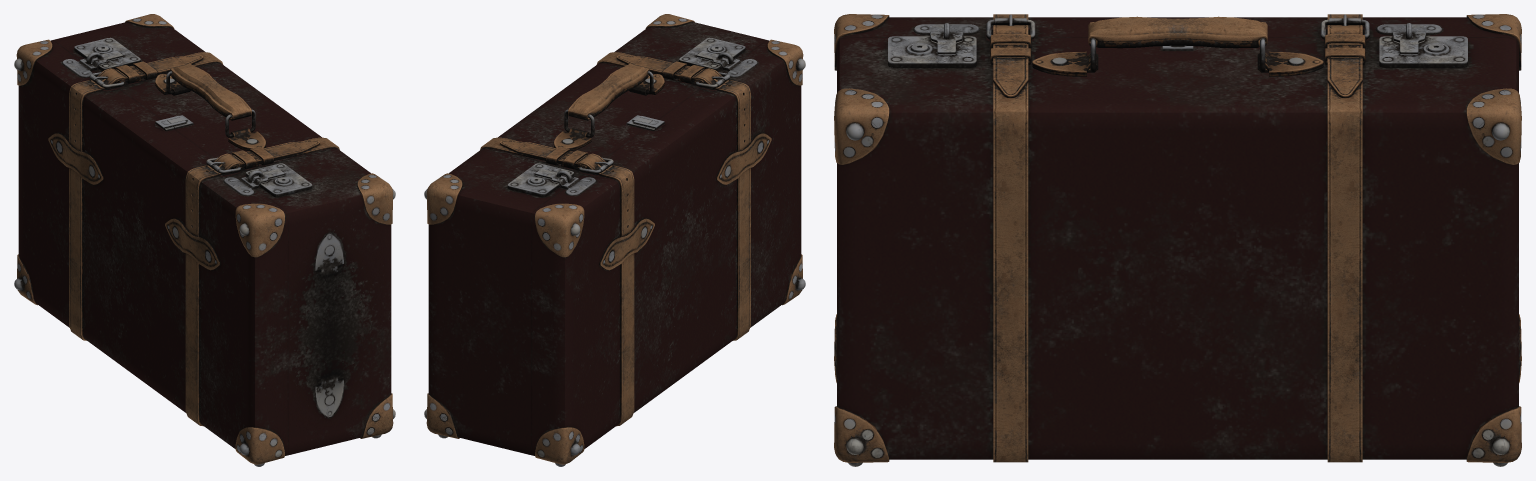
The model's file is SM_TravelCase_Basic.fbx.
3 renders of one model, left to right at view 1: azimuth 30°, elevation 25°; view 2: azimuth 150°, elevation 25°; view 3: azimuth 270°, elevation 25°, orthographic. The views are drawn at different scales.
Parts seen in each view (by area): view 1: SM_TravelCase_Basic_LOD0; view 2: SM_TravelCase_Basic_LOD0; view 3: SM_TravelCase_Basic_LOD0.
Boxes of the visible parts, bbox=[...] form: SM_TravelCase_Basic_LOD0: bbox=[14, 14, 395, 466]; SM_TravelCase_Basic_LOD0: bbox=[424, 14, 805, 466]; SM_TravelCase_Basic_LOD0: bbox=[834, 14, 1521, 466].
Size of the model in its own units: 50.67 by 136 by 89.08.
1 material, 1 textured.
